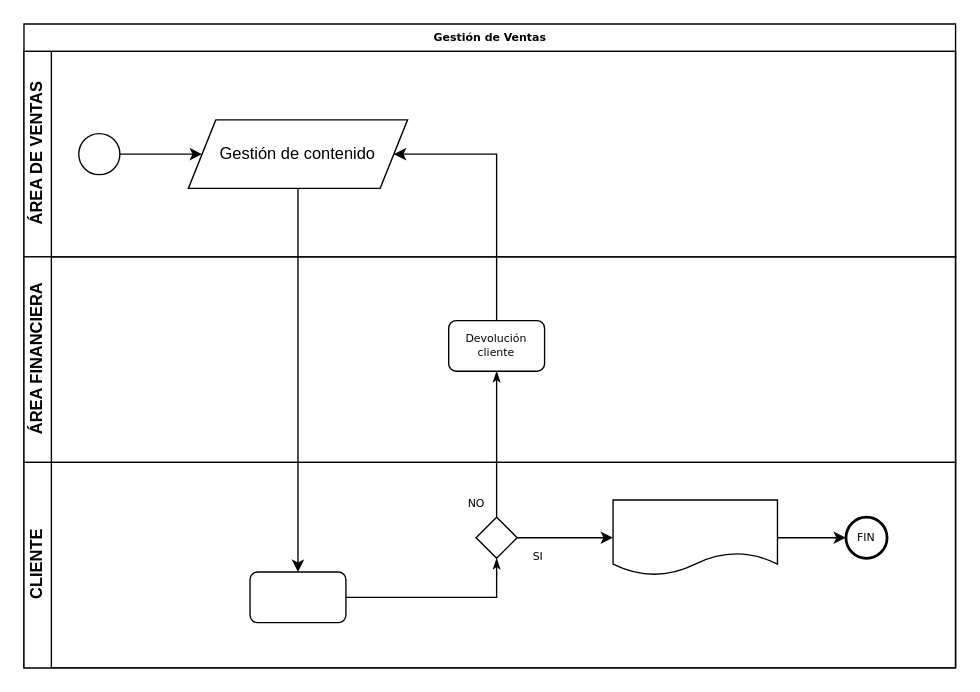
Some shapes in this 980 by 692 pixel diagram are drawn without their labels. Each missing label, with the centre of its shape:
Experiencia de usuario: point 297,597
INICIO: point 98,153
Recepción y entrega de mercancía: point 694,537
